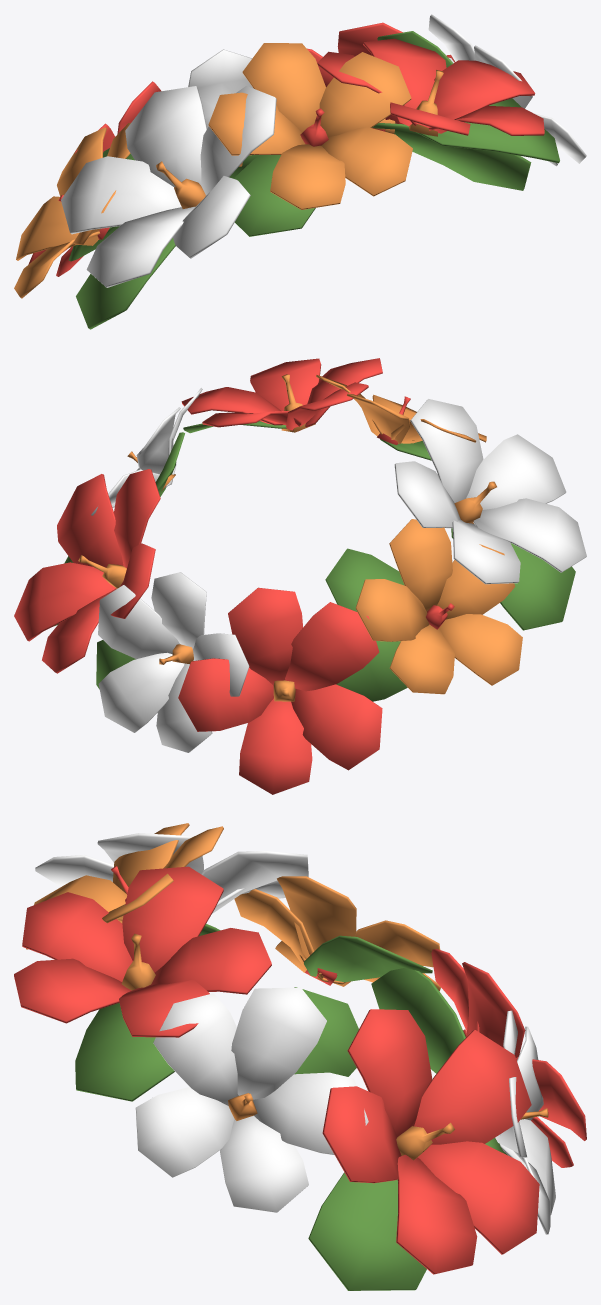
The model's file is flowercrown.fbx.
3 renders of one model, top to bottom at view 1: azimuth 30°, elevation 25°; view 2: azimuth 150°, elevation 25°; view 3: azimuth 270°, elevation 25°, orthographic. The views are drawn at different scales.
Visible parts, largest first — view 1: flowercrown; view 2: flowercrown; view 3: flowercrown.
Boxes of the visible parts, box(x1,y1,x2,y2) form: flowercrown: box(14, 14, 586, 329); flowercrown: box(14, 358, 586, 794); flowercrown: box(14, 823, 586, 1290).
Bounding box in the file's own units: 50.88 × 30.54 × 43.59.
